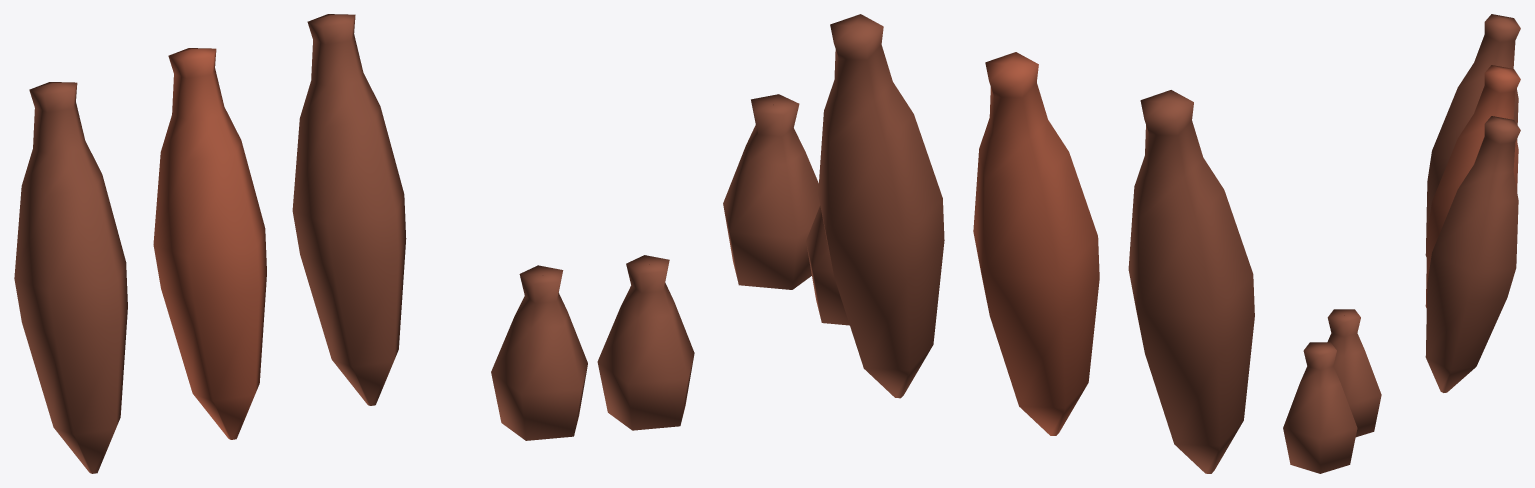
The model's file is rome_wares_amph.glb.
3 views of the same model, side by side, from view 1: azimuth 30°, elevation 25°; view 2: azimuth 150°, elevation 25°; view 3: azimuth 270°, elevation 25° (orthographic). The views are drawn at different scales.
Visible parts, largest first — view 1: rome_wares_amph; view 2: rome_wares_amph; view 3: rome_wares_amph.
Part boxes in pixels (x1,y1,x2,y2): rome_wares_amph: [14, 14, 694, 473]; rome_wares_amph: [723, 14, 1254, 473]; rome_wares_amph: [1283, 14, 1520, 473].
Size of the model in its own units: 1.61 by 0.9923 by 0.7895.
